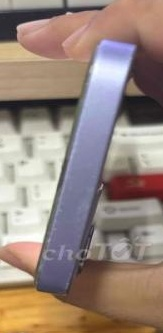scratch: (39, 110, 94, 285)
